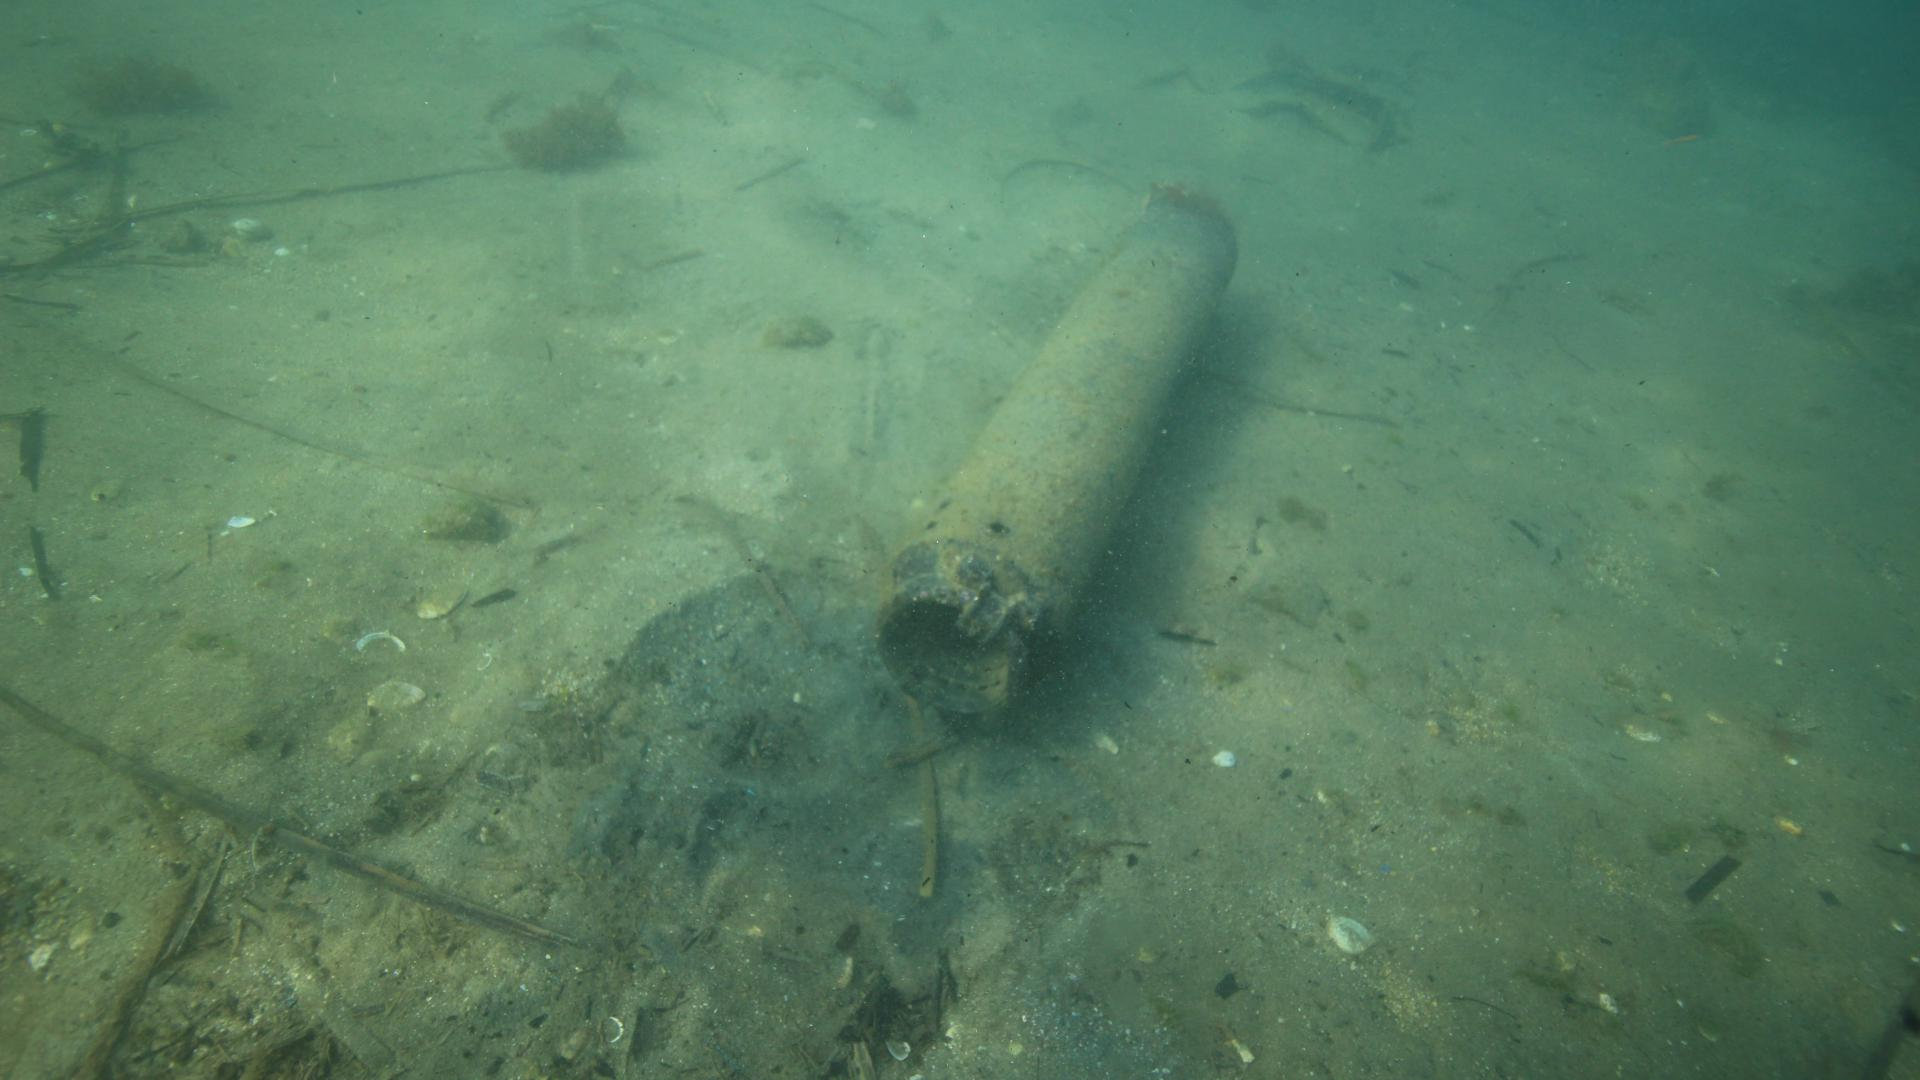eel fish trap: (872, 193, 1244, 725)
